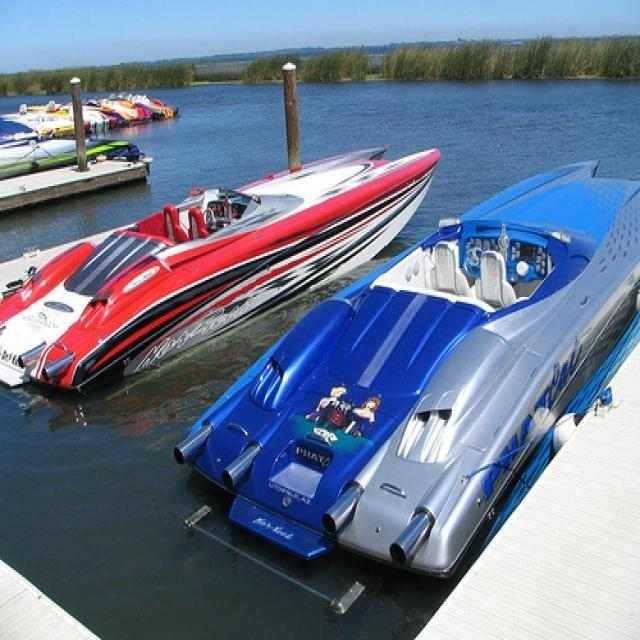boat: (172, 156, 638, 614), (0, 142, 443, 411)
